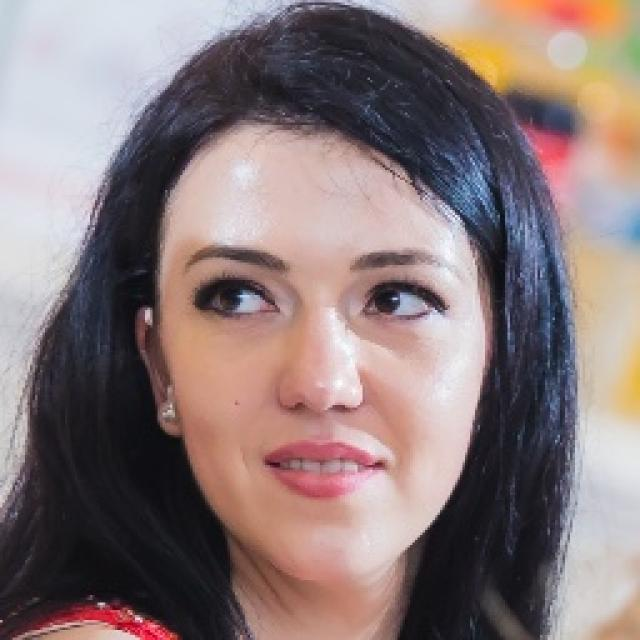earlobe: (154, 386, 184, 439)
eye: (194, 277, 278, 316), (361, 283, 438, 321)
nose: (276, 393, 364, 450)
wholeear: (134, 306, 184, 438)
